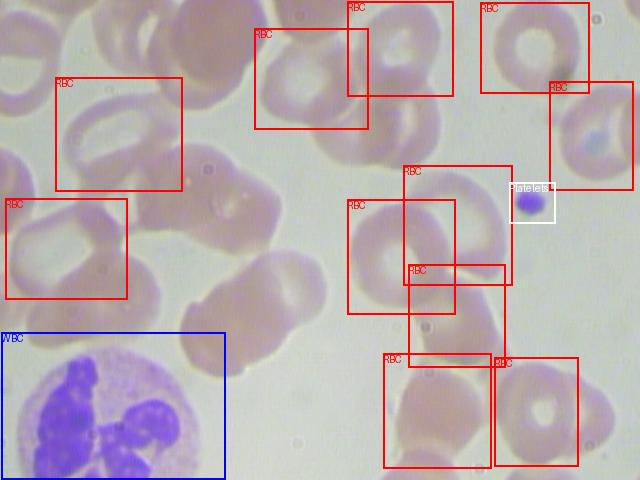Platelets: (509, 182, 555, 223)
RBC: (55, 77, 182, 191), (403, 165, 512, 285), (347, 199, 455, 314), (383, 353, 491, 468), (5, 198, 127, 299), (254, 28, 368, 129), (347, 1, 453, 96), (408, 264, 505, 367), (480, 2, 589, 93), (494, 357, 578, 466), (549, 81, 633, 190)
WBC: (1, 332, 225, 479)
